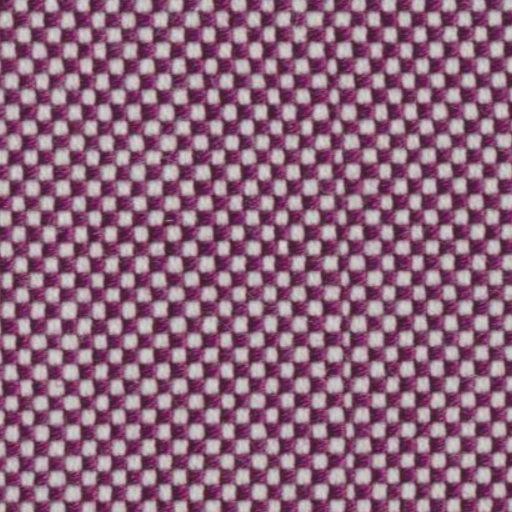TuoSha: (304, 11, 382, 494)
